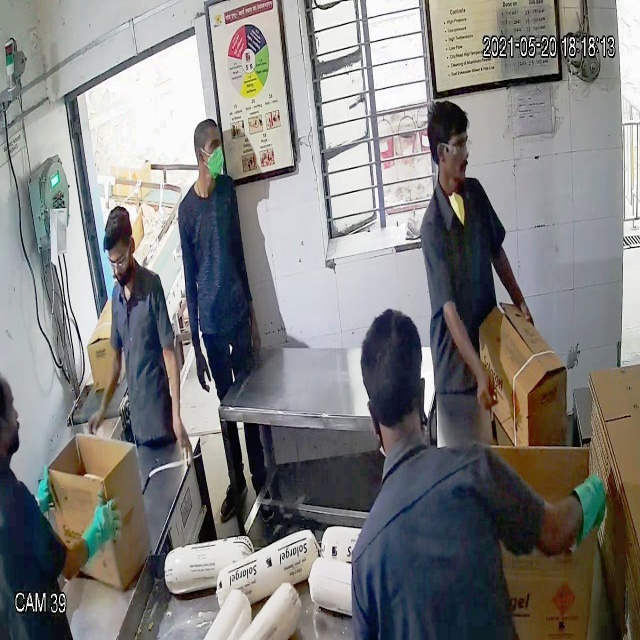Gafas: (433, 131, 477, 157), (103, 246, 135, 268)
Sin_gafas: (195, 133, 228, 158)
